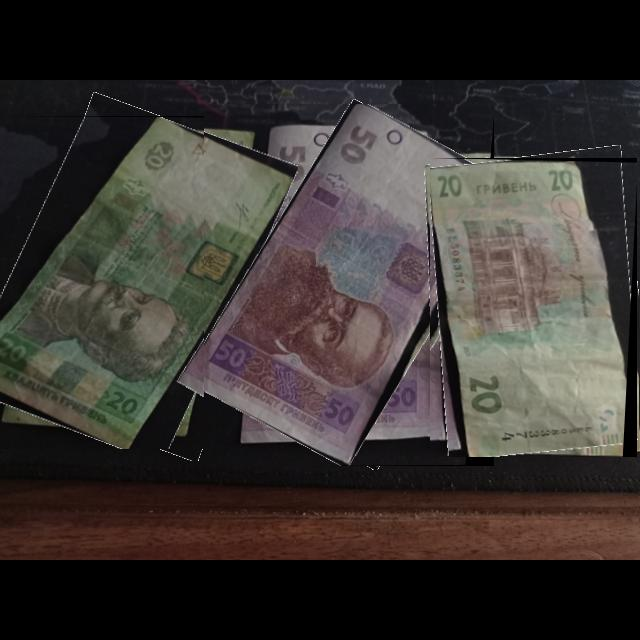20uah: (0, 117, 295, 450), (430, 160, 630, 458)
50uah: (204, 104, 490, 467)
